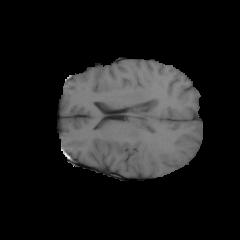glioma: (143, 131, 172, 167)
